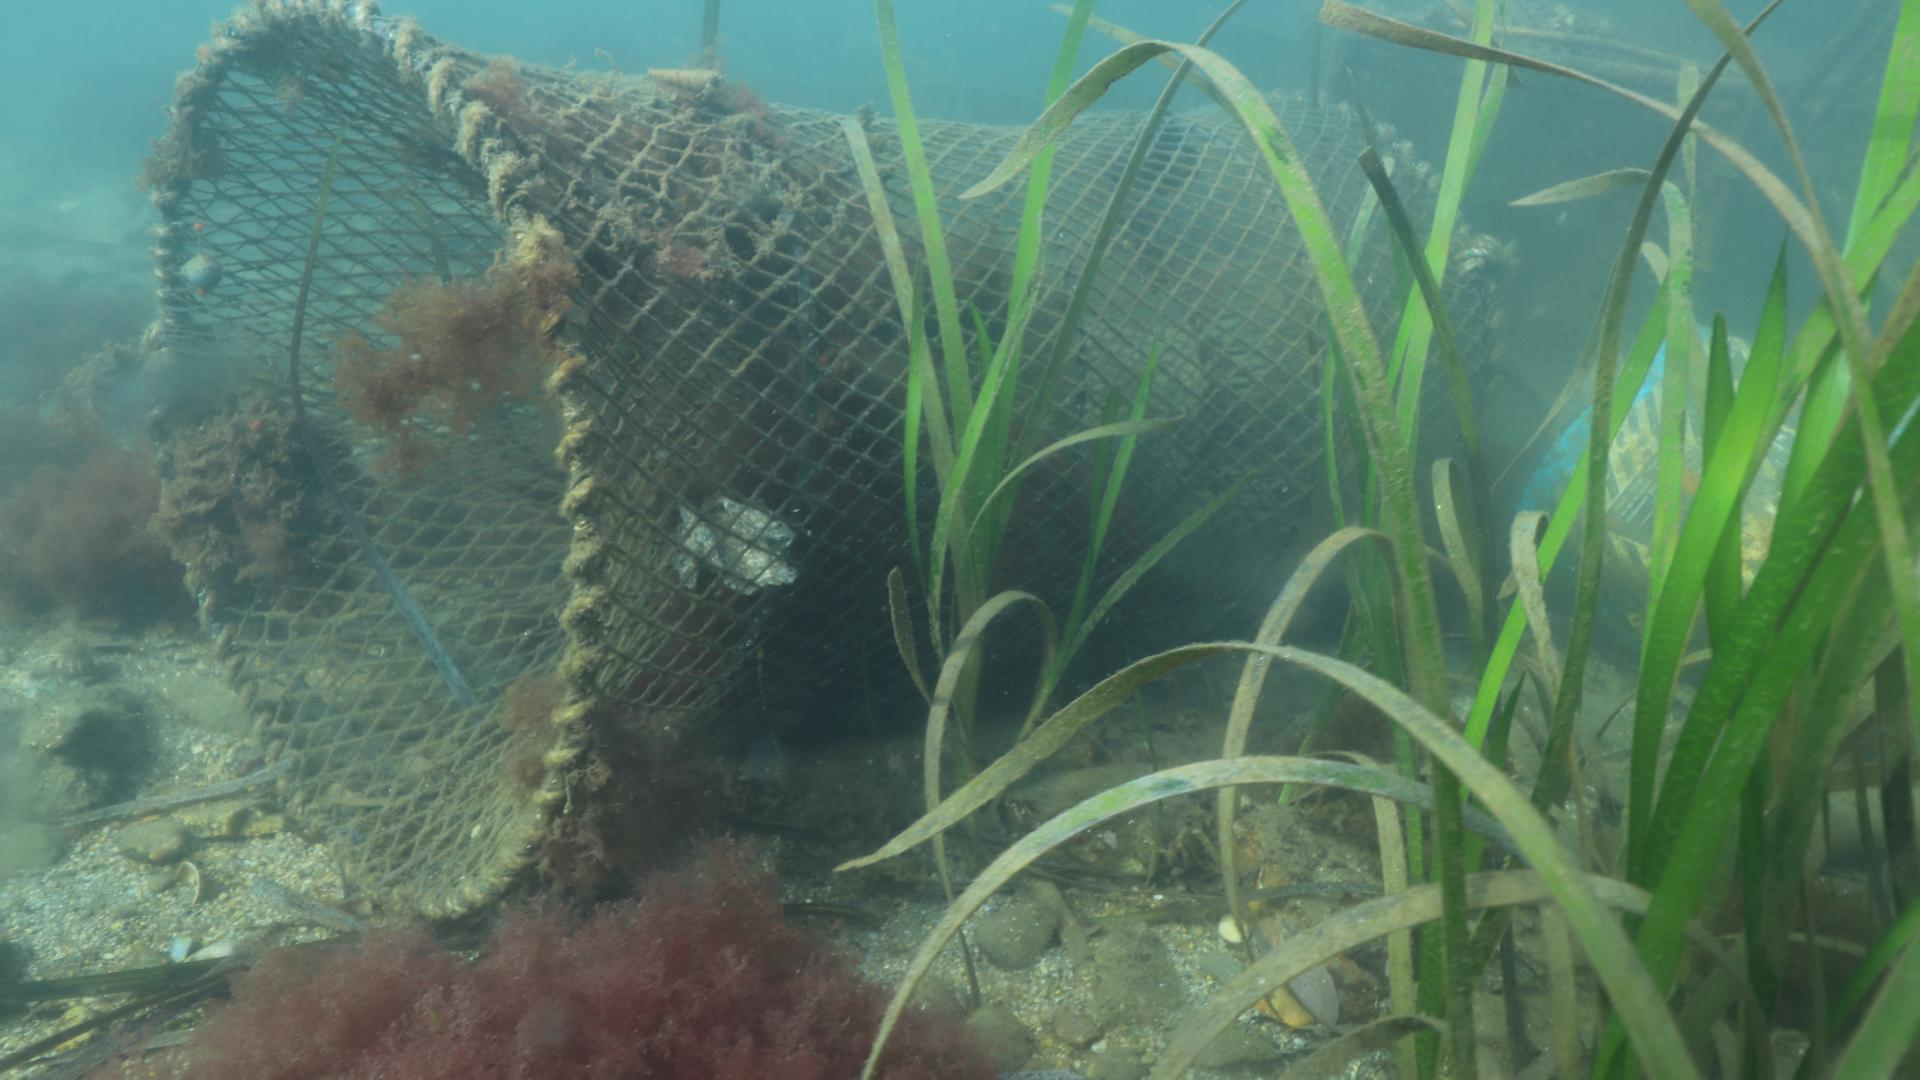spring fish trap: (146, 0, 1502, 926)
